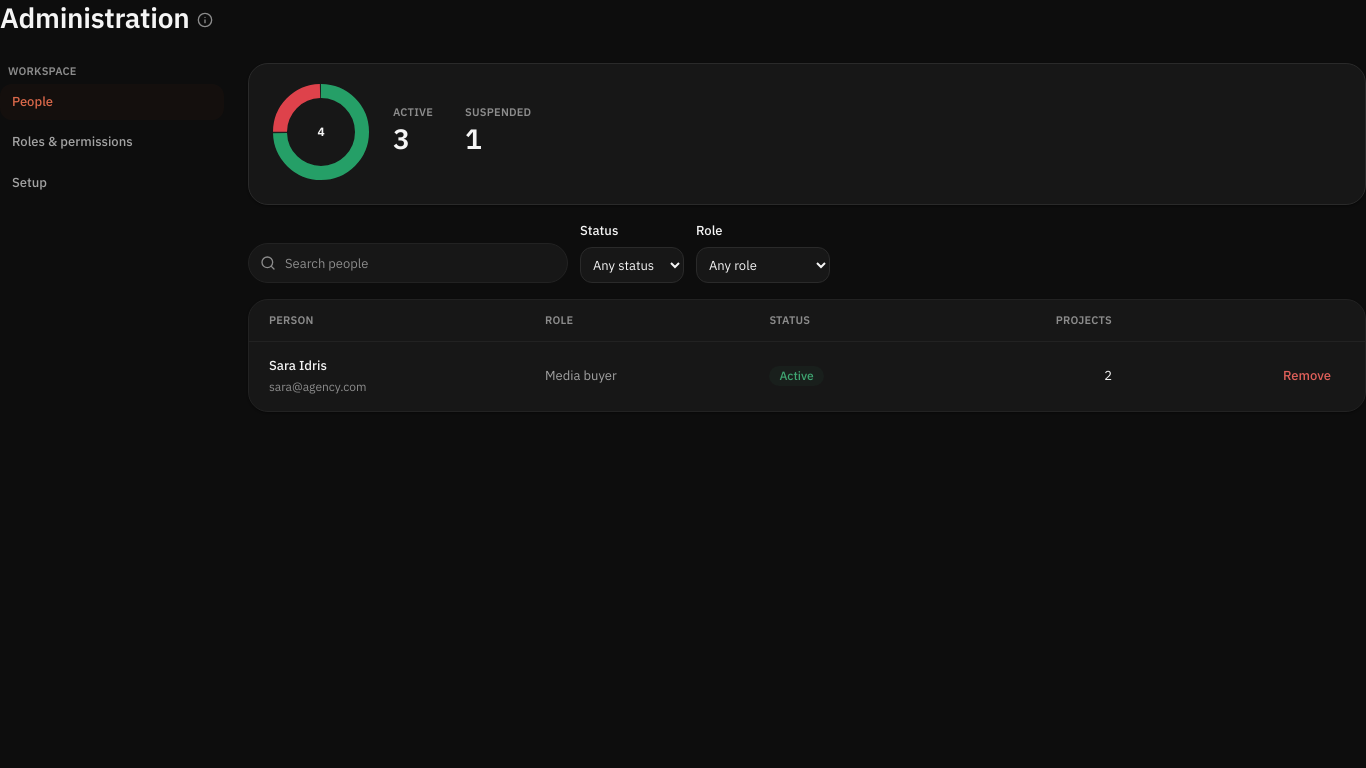
Test: AdministrationPage › reports what the removal actually released
The width and height of the screenshot is (1366, 768).
Click the button "Remove". click: (1307,376)
box: [1269, 360, 1345, 392]
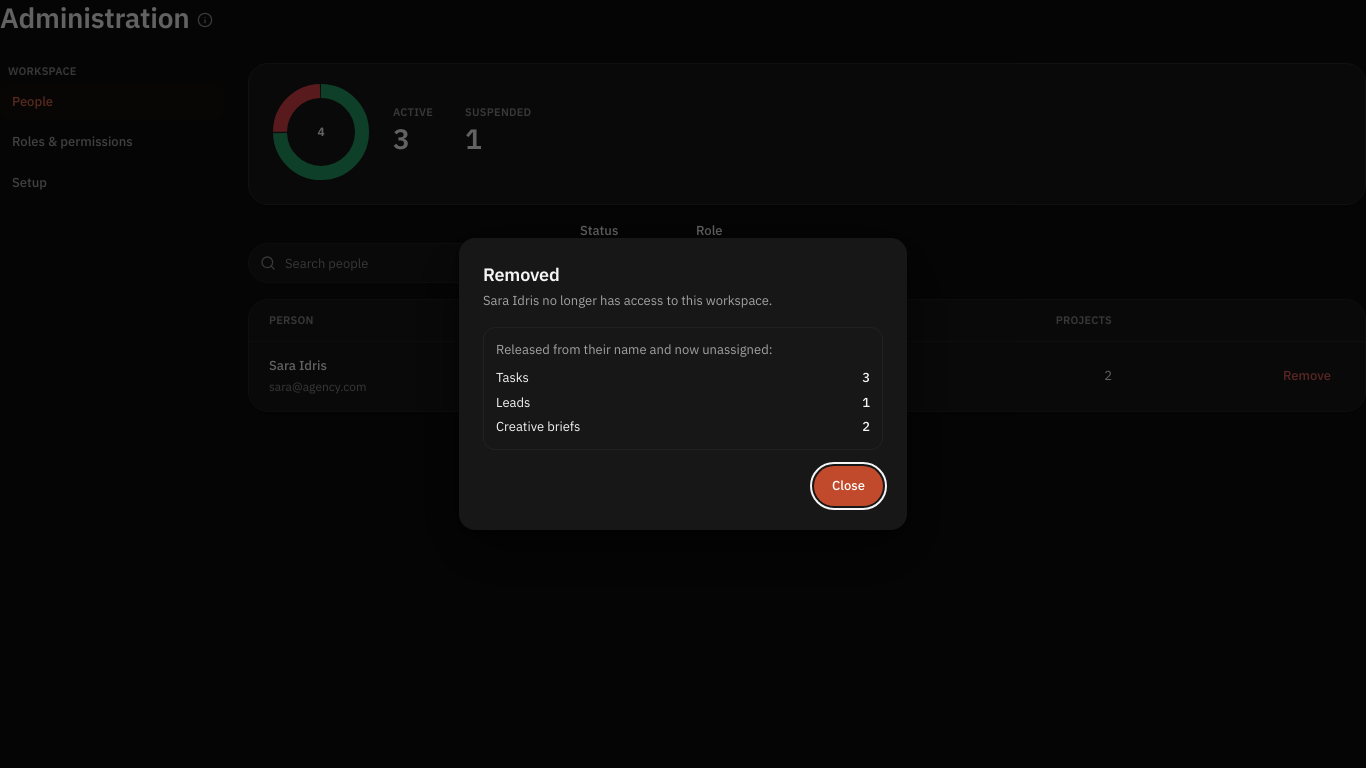
Expected: the dialog shows "Released from their name and now unassigned:", [496, 340, 772, 359]
Expected: the text "Creative briefs" is shown, [496, 417, 580, 437]
